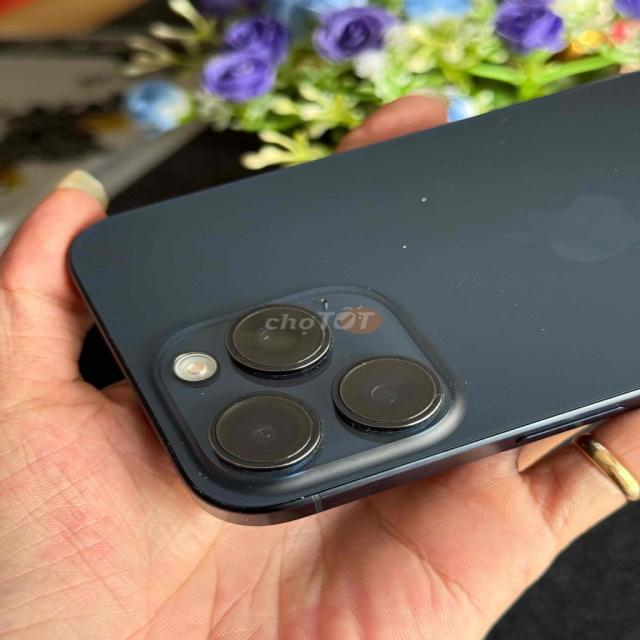gen_15: (61, 54, 640, 523)
